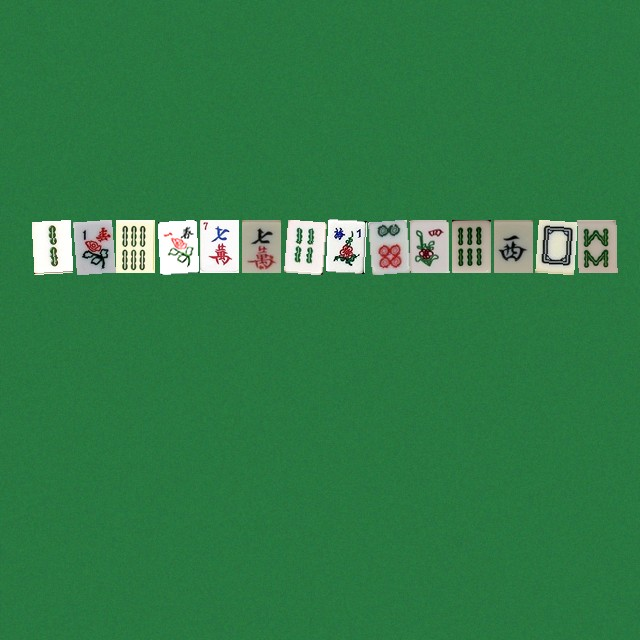tile: (31, 219, 70, 272), (73, 219, 112, 272), (115, 219, 154, 272), (157, 219, 196, 272), (199, 219, 238, 272), (241, 219, 280, 272), (283, 219, 322, 272), (325, 219, 364, 272), (367, 219, 406, 272), (409, 219, 448, 272), (451, 219, 490, 272), (493, 219, 532, 272), (535, 219, 574, 272), (577, 219, 616, 272)
